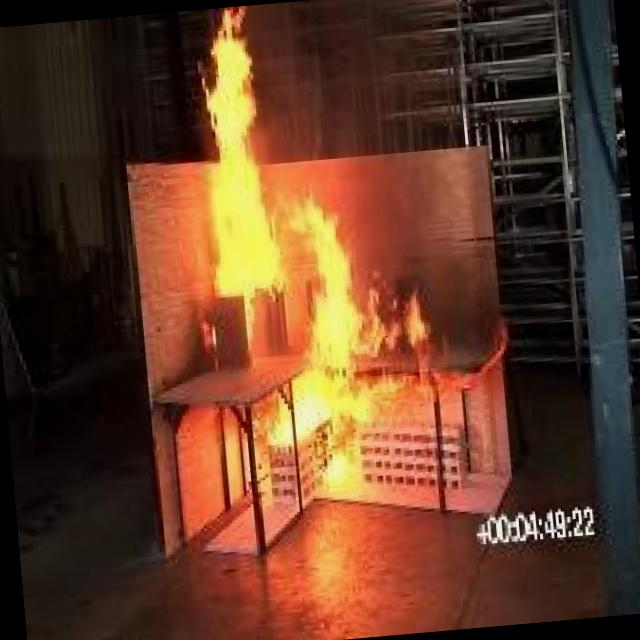fire: (151, 0, 344, 358), (262, 188, 396, 530)
